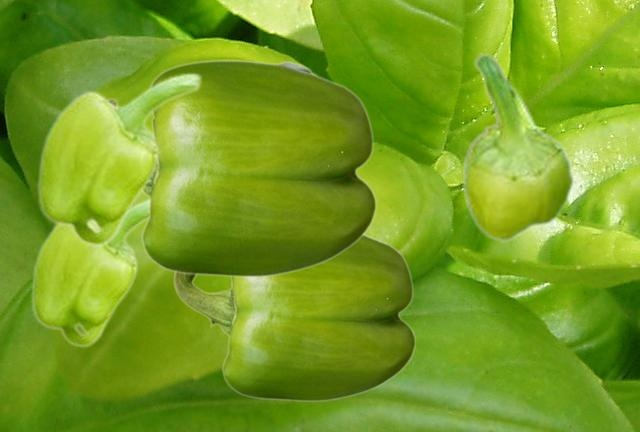bell_pepper: (110, 59, 376, 277), (173, 234, 415, 401), (36, 71, 202, 246), (461, 53, 574, 241), (30, 197, 147, 347)
